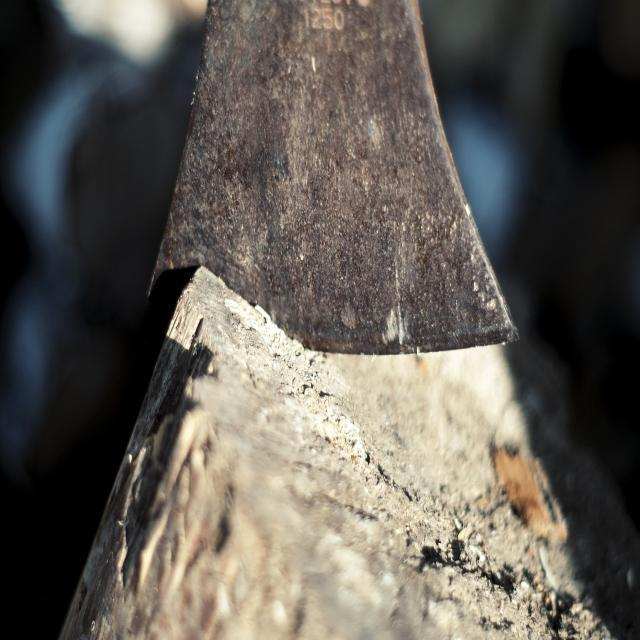Axe: (155, 0, 515, 354)
